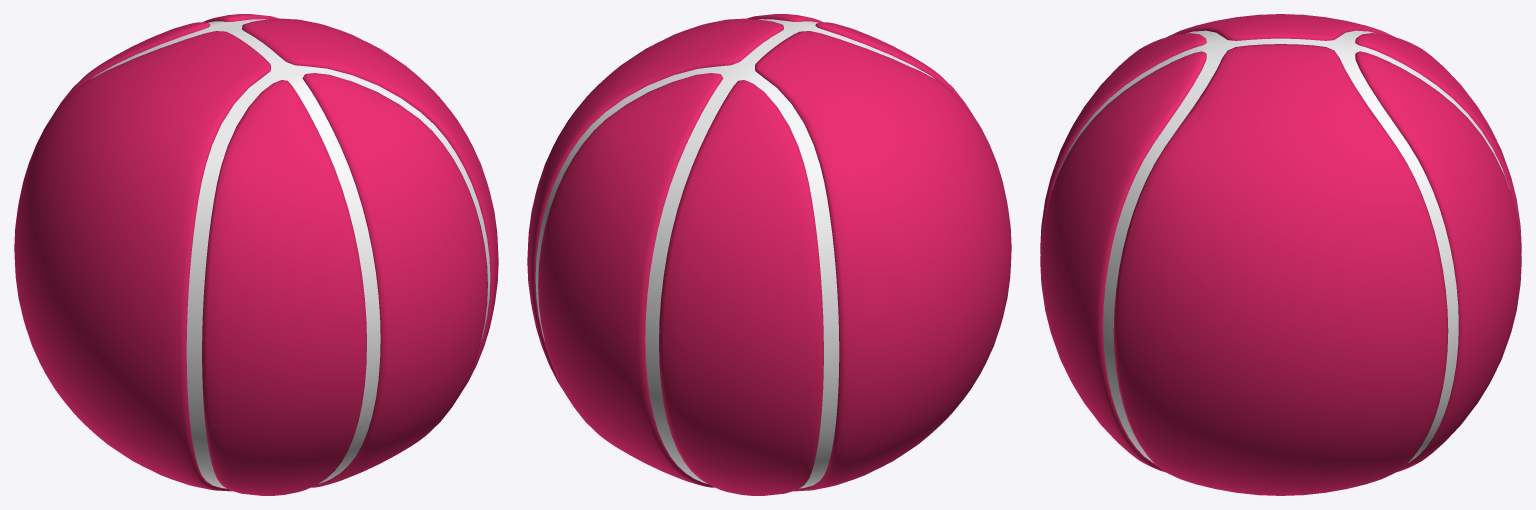
The model's file is top_1.fbx.
3 views of the same model, side by side, from view 1: azimuth 30°, elevation 25°; view 2: azimuth 150°, elevation 25°; view 3: azimuth 270°, elevation 25° (orthographic).
Parts seen in each view (by area): view 1: Cube.003; view 2: Cube.003; view 3: Cube.003.
Part boxes in pixels (left/top/right/bottom): Cube.003: left=14, top=14, right=498, bottom=495; Cube.003: left=527, top=14, right=1011, bottom=495; Cube.003: left=1040, top=14, right=1521, bottom=495.
Size of the model in its own units: 2609 by 2572 by 2603.
Materials: 1 (1 with a texture image).
